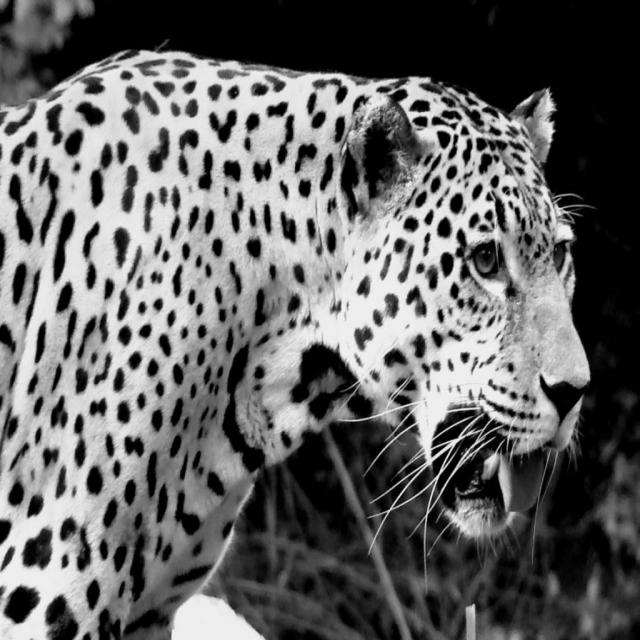Cheetah: (0, 45, 591, 640)
